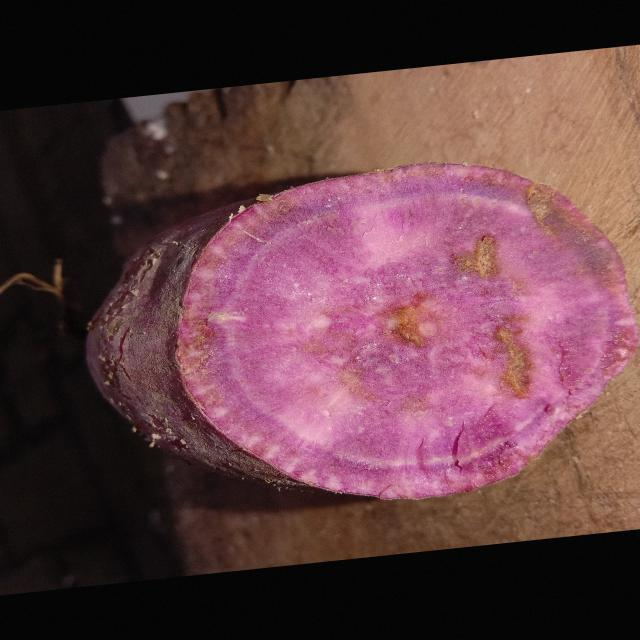Sick Sweet Potato_Tuber Rot: (178, 164, 637, 499)
